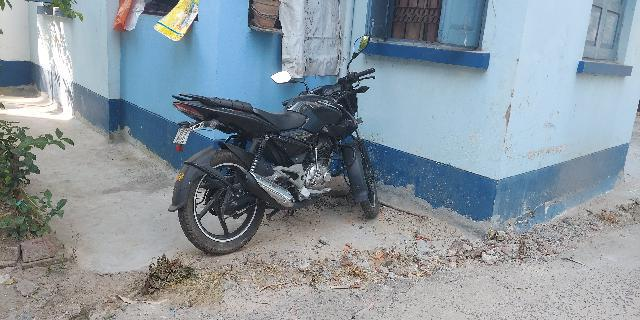Motorbike: (161, 41, 387, 259)
